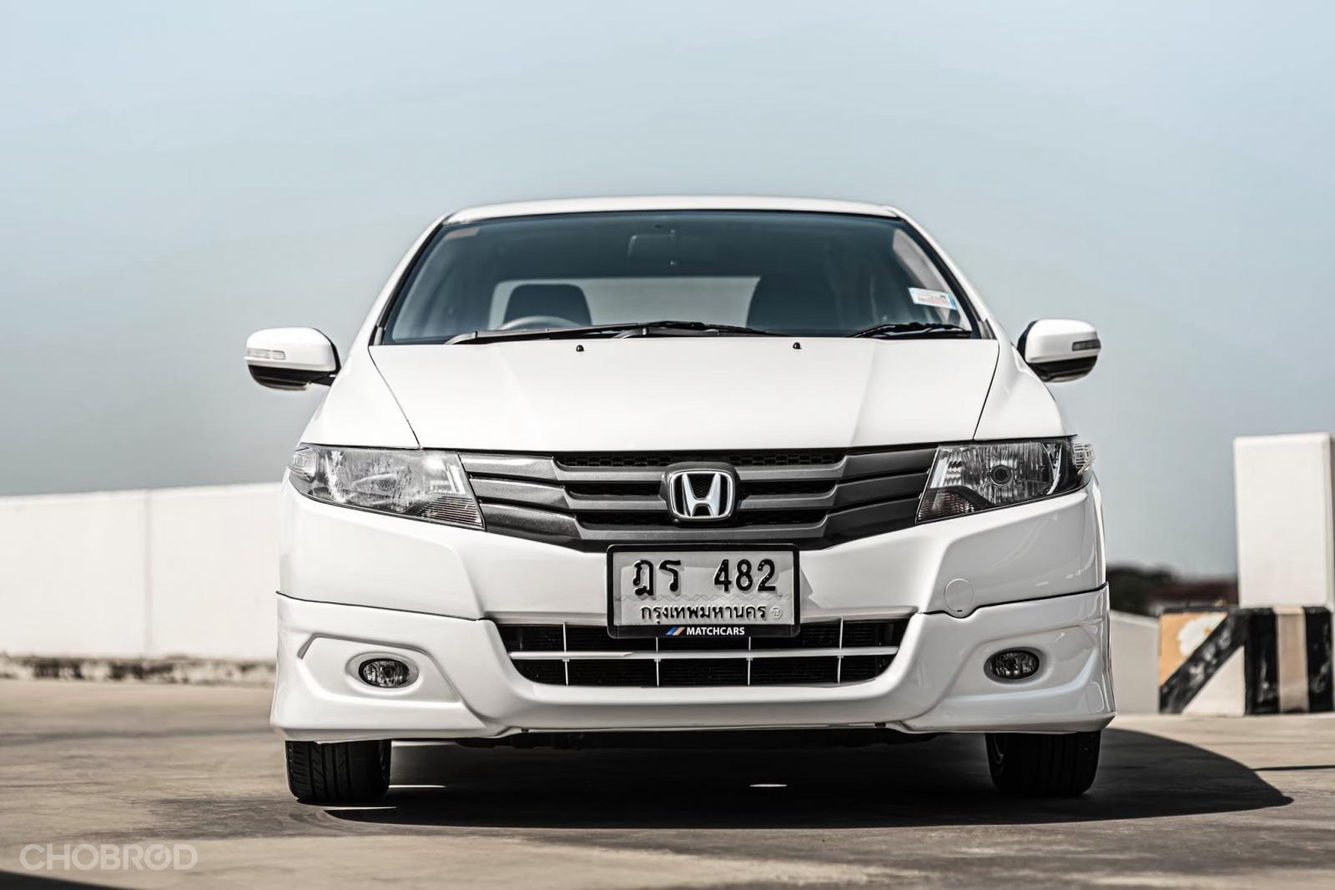license-plate: (600, 539, 806, 645)
